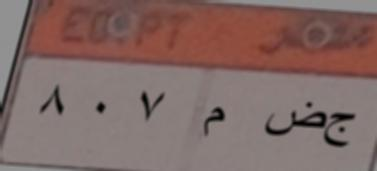0: (93, 93, 111, 126)
7: (132, 84, 165, 128)
8: (34, 77, 69, 127)
daad: (262, 98, 326, 144)
jeem: (324, 107, 358, 158)
meem: (195, 97, 232, 147)
